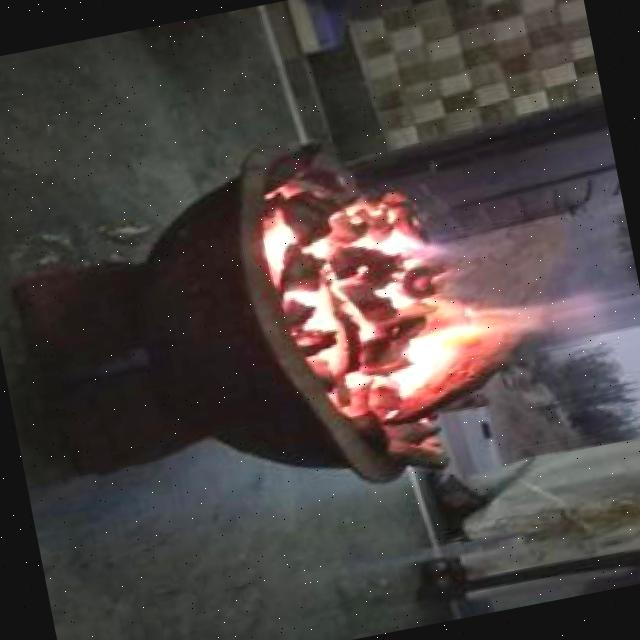fire: (231, 142, 573, 430)
